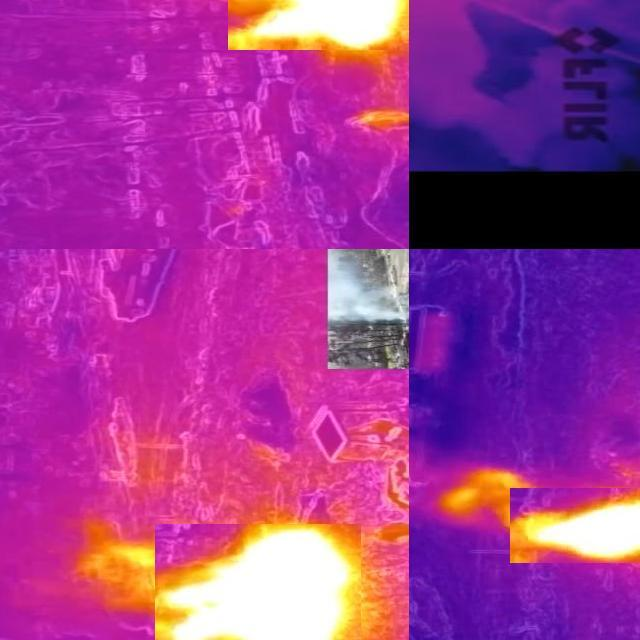fire: (156, 524, 362, 640), (511, 488, 640, 563), (229, 1, 410, 50)
